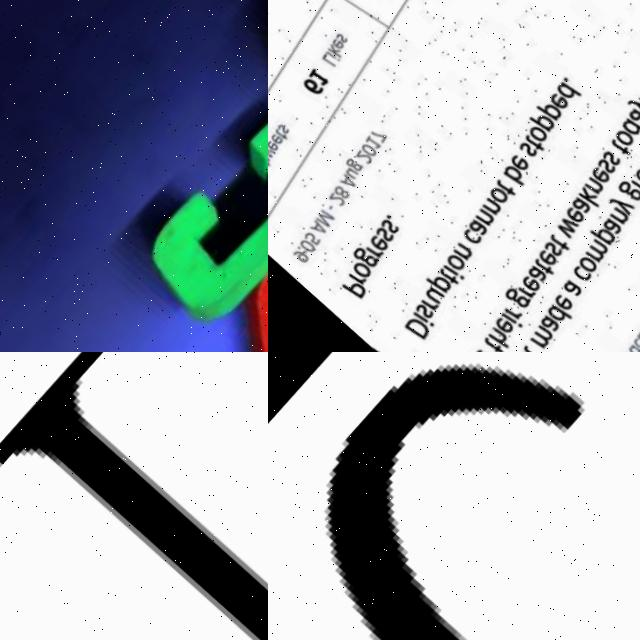0: (295, 234, 318, 256), (358, 139, 379, 160)
1: (305, 64, 333, 90), (363, 131, 385, 153)
2: (326, 188, 347, 210), (353, 145, 374, 166)
5: (301, 226, 323, 249)
6: (300, 74, 326, 99)
7: (368, 125, 388, 144)
8: (331, 182, 352, 202)
9: (289, 244, 312, 267)
C: (322, 363, 580, 640), (117, 52, 268, 342)
D: (0, 352, 268, 640)
U: (184, 176, 268, 352)
